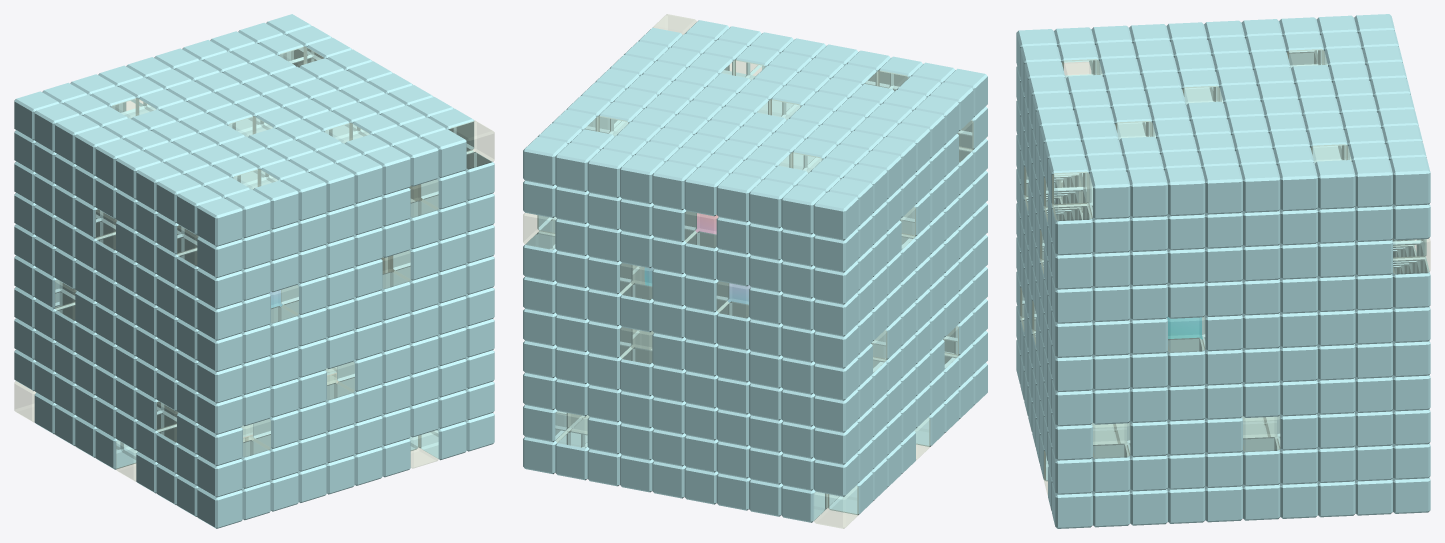
The model's file is glowing_cube.glb.
3 renders of one model, left to right at view 1: azimuth 30°, elevation 25°; view 2: azimuth 150°, elevation 25°; view 3: azimuth 270°, elevation 25°, orthographic. The views are drawn at different scales.
Parts seen in each view (by area): view 1: Object_3, Object_2; view 2: Object_3, Object_2, Object_4; view 3: Object_3, Object_2, Object_4.
Part boxes in pixels (bbox=[...]): Object_3: bbox=[14, 14, 494, 528]; Object_2: bbox=[14, 46, 494, 481]; Object_3: bbox=[523, 20, 987, 522]; Object_2: bbox=[523, 14, 973, 528]; Object_4: bbox=[644, 213, 750, 304]; Object_3: bbox=[1016, 14, 1430, 528]; Object_2: bbox=[1020, 49, 1430, 494]; Object_4: bbox=[1167, 317, 1202, 339].
Size of the model in its own units: 110 by 100 by 110.
3 materials, 1 textured.
